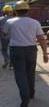boots: (20, 98, 30, 107), (1, 1, 1, 1)
hard-hat: (12, 0, 30, 11)
